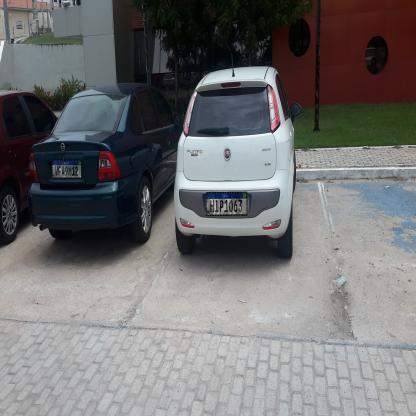PlacaM: (206, 192, 247, 216), (52, 160, 82, 179)
